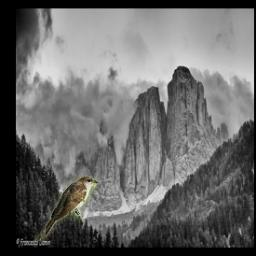Cuckoo: (36, 176, 99, 241)
